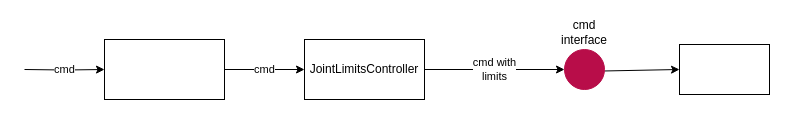
Image size: 787x117. Some labels were removed from this diagram. The box of each missing label's shape, as (x1, y1, x2, y2) in pixels:
hardware: (678, 44, 770, 94)
JointEffortController: (104, 38, 224, 100)
